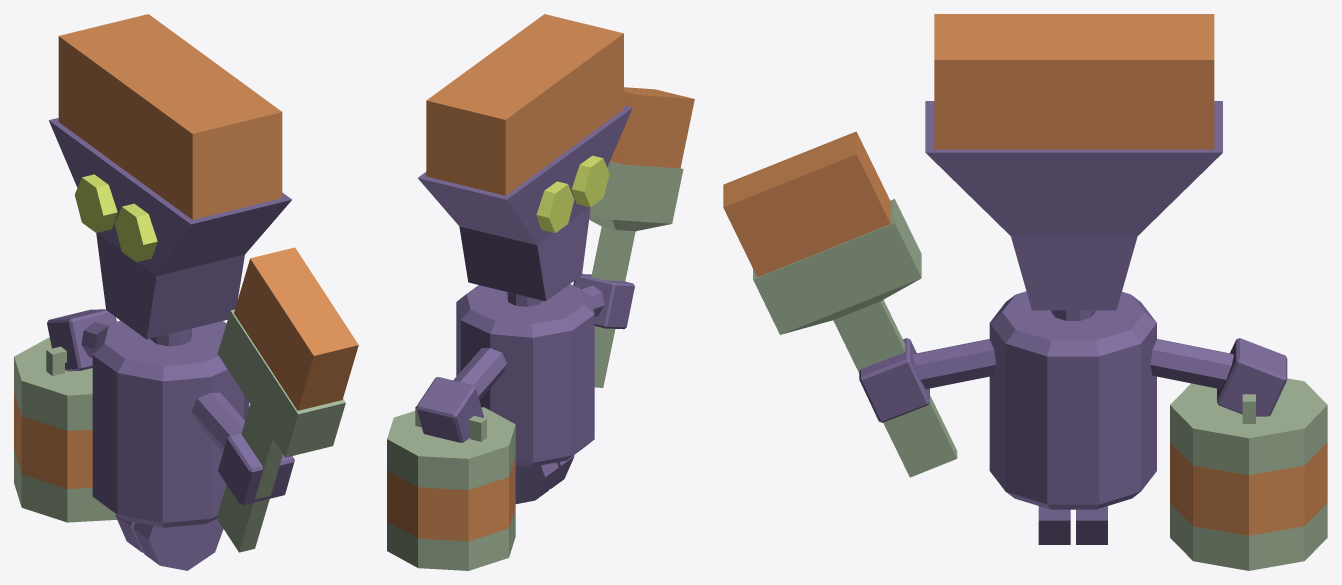
File: RobotPainter.fbx
3 renders of one model, left to right at view 1: azimuth 30°, elevation 25°; view 2: azimuth 150°, elevation 25°; view 3: azimuth 270°, elevation 25°, orthographic. The views are drawn at different scales.
Visible parts, largest first — view 1: Cylinder.017; view 2: Cylinder.017; view 3: Cylinder.017.
Part boxes in pixels (<box>): Cylinder.017: <box>14,14,358,570</box>; Cylinder.017: <box>387,14,694,570</box>; Cylinder.017: <box>723,14,1327,570</box>.
Size of the model in its own units: 16.11 by 56.58 by 61.19.
